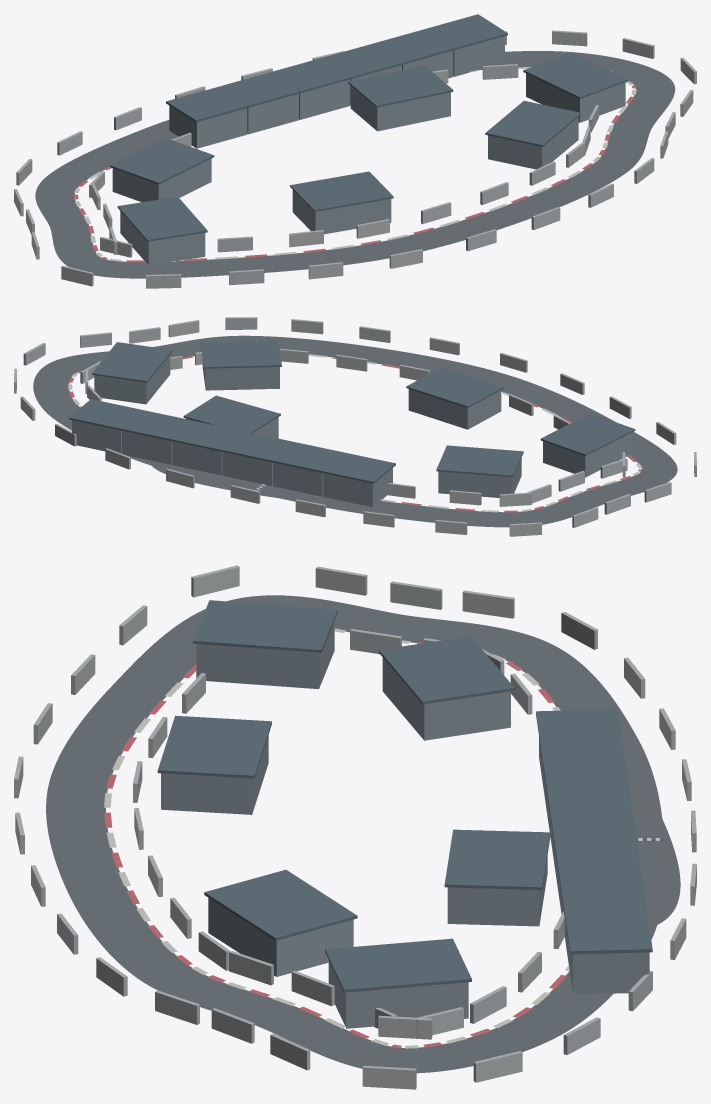
3 renders of one model, top to bottom at view 1: azimuth 30°, elevation 25°; view 2: azimuth 150°, elevation 25°; view 3: azimuth 270°, elevation 25°, orthographic. The views are drawn at different scales.
Parts seen in each view (by area): view 1: asphalt, grandstand_roof_0, grandstand_roof_1, grandstand_roof_3, grandstand_roof_5, grandstand_roof_2, grandstand_roof_4, grandstand_0, grandstand_3, grandstand_5, grandstand_1, grandstand_2 (+27 smaller); view 2: asphalt, grandstand_roof_3, grandstand_roof_4, grandstand_roof_5, grandstand_roof_2, grandstand_roof_1, grandstand_3, grandstand_roof_0, grandstand_4, grandstand_2, grandstand_5, grandstand_1 (+36 smaller); view 3: asphalt, grandstand_roof_2, grandstand_roof_1, grandstand_roof_4, grandstand_roof_5, grandstand_roof_3, grandstand_roof_0, grandstand_4, grandstand_2, grandstand_5, grandstand_1, grandstand_3 (+25 smaller).
Part boxes in pixels (left/top/right/bottom): asphalt: left=35, top=51, right=675, bottom=278; grandstand_roof_0: left=348, top=65, right=453, bottom=107; grandstand_roof_1: left=523, top=52, right=628, bottom=98; grandstand_roof_3: left=290, top=171, right=393, bottom=211; grandstand_roof_5: left=110, top=138, right=214, bottom=184; grandstand_roof_2: left=485, top=100, right=581, bottom=146; grandstand_roof_4: left=117, top=196, right=207, bottom=241; grandstand_0: left=350, top=86, right=450, bottom=131; grandstand_3: left=292, top=190, right=391, bottom=234; grandstand_5: left=112, top=158, right=211, bottom=202; grandstand_1: left=526, top=73, right=625, bottom=122; grandstand_2: left=488, top=117, right=578, bottom=169; asphalt: left=33, top=335, right=677, bottom=527; grandstand_roof_3: left=406, top=367, right=503, bottom=407; grandstand_roof_4: left=540, top=413, right=635, bottom=455; grandstand_roof_5: left=436, top=445, right=523, bottom=477; grandstand_roof_2: left=200, top=340, right=281, bottom=368; grandstand_roof_1: left=92, top=342, right=172, bottom=382; grandstand_3: left=408, top=389, right=501, bottom=429; grandstand_roof_0: left=183, top=395, right=280, bottom=432; grandstand_4: left=543, top=432, right=632, bottom=477; grandstand_2: left=202, top=360, right=279, bottom=390; grandstand_5: left=438, top=458, right=521, bottom=497; grandstand_1: left=94, top=354, right=170, bottom=404; asphalt: left=46, top=595, right=662, bottom=1073; grandstand_roof_2: left=204, top=869, right=357, bottom=940; grandstand_roof_1: left=325, top=938, right=471, bottom=992; grandstand_roof_4: left=193, top=600, right=337, bottom=652; grandstand_roof_5: left=379, top=636, right=514, bottom=704; grandstand_roof_3: left=157, top=715, right=271, bottom=778; grandstand_roof_0: left=444, top=829, right=550, bottom=889; grandstand_4: left=196, top=621, right=334, bottom=689; grandstand_2: left=208, top=898, right=353, bottom=976; grandstand_5: left=382, top=657, right=510, bottom=740; grandstand_1: left=328, top=960, right=468, bottom=1028; grandstand_3: left=161, top=735, right=268, bottom=814.
Size of the model in its own units: 62.4 by 2.64 by 35.64.
